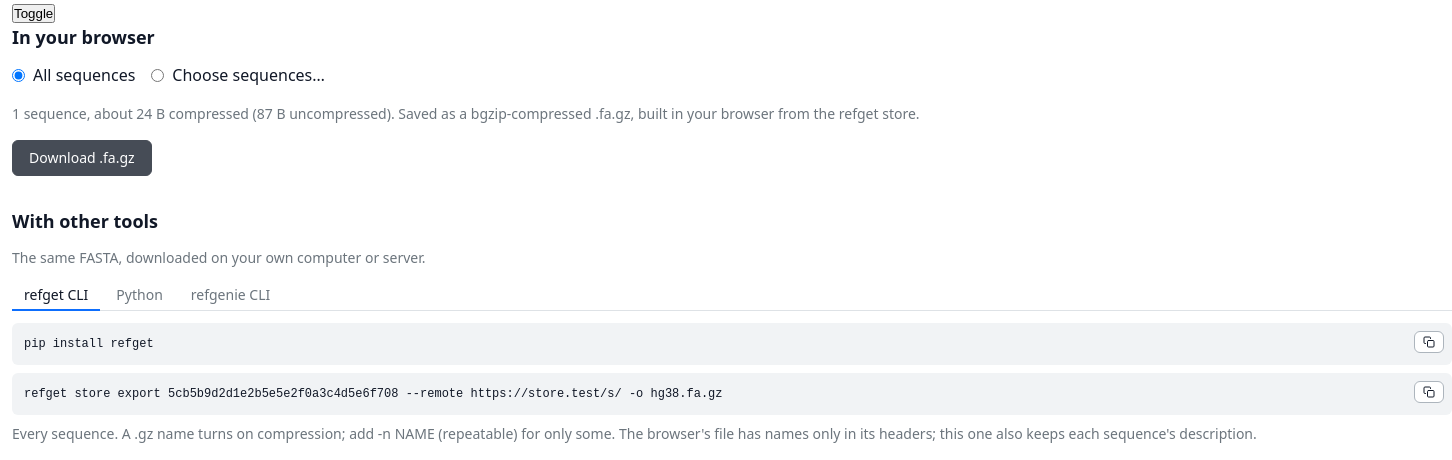
it: Download tab › saves to <fileStem>.fa.gz
The image size is (1452, 460).
Expected: the heading "In your browser" is shown, [12,25,155,49]
Expected: the text "(87 B uncompressed)" is shown, [12,104,398,123]
Click the button "Download .fa.gz": click(82, 158) [12,140,152,176]
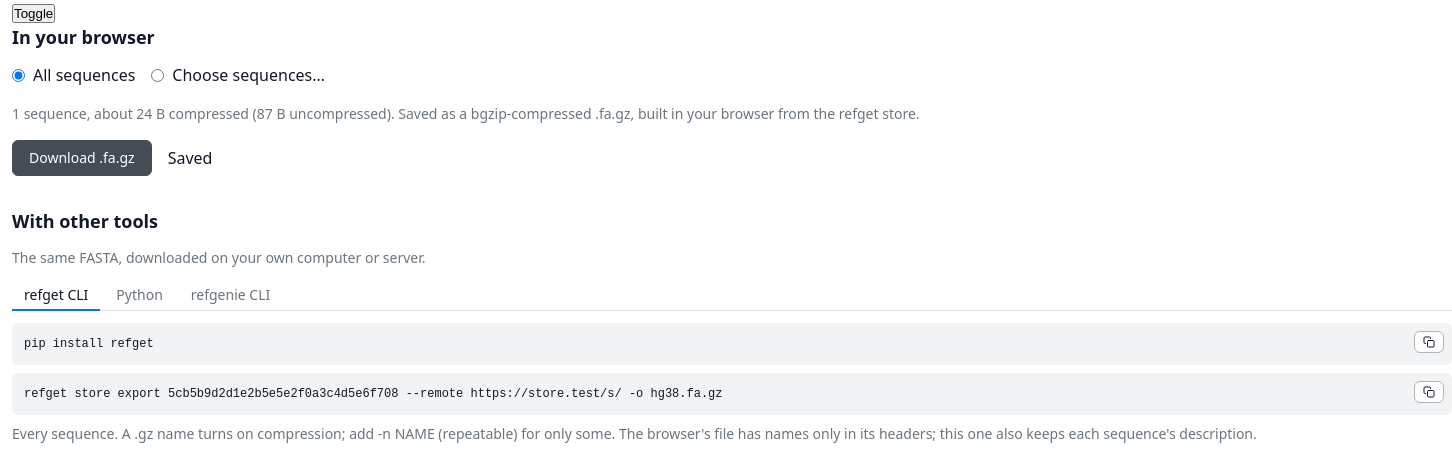
Expected: the text "Saved" is shown, [168,146,212,170]
